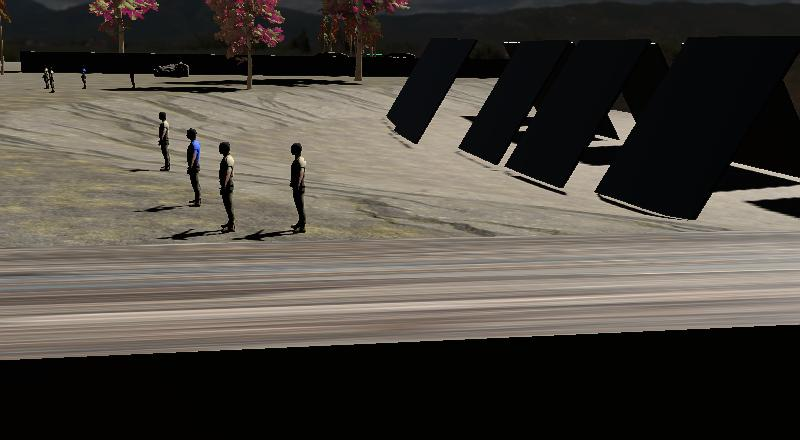Human: (212, 136, 241, 234), (284, 138, 312, 235), (181, 124, 206, 208), (152, 107, 175, 175)
